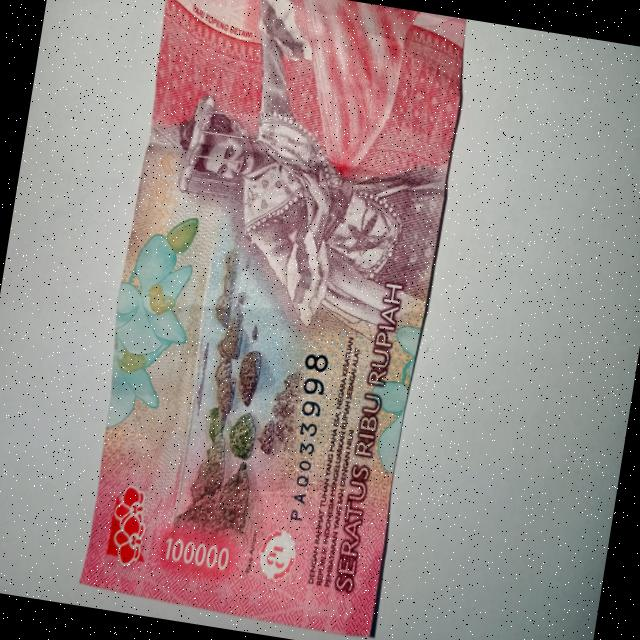100K: (67, 0, 475, 640)
